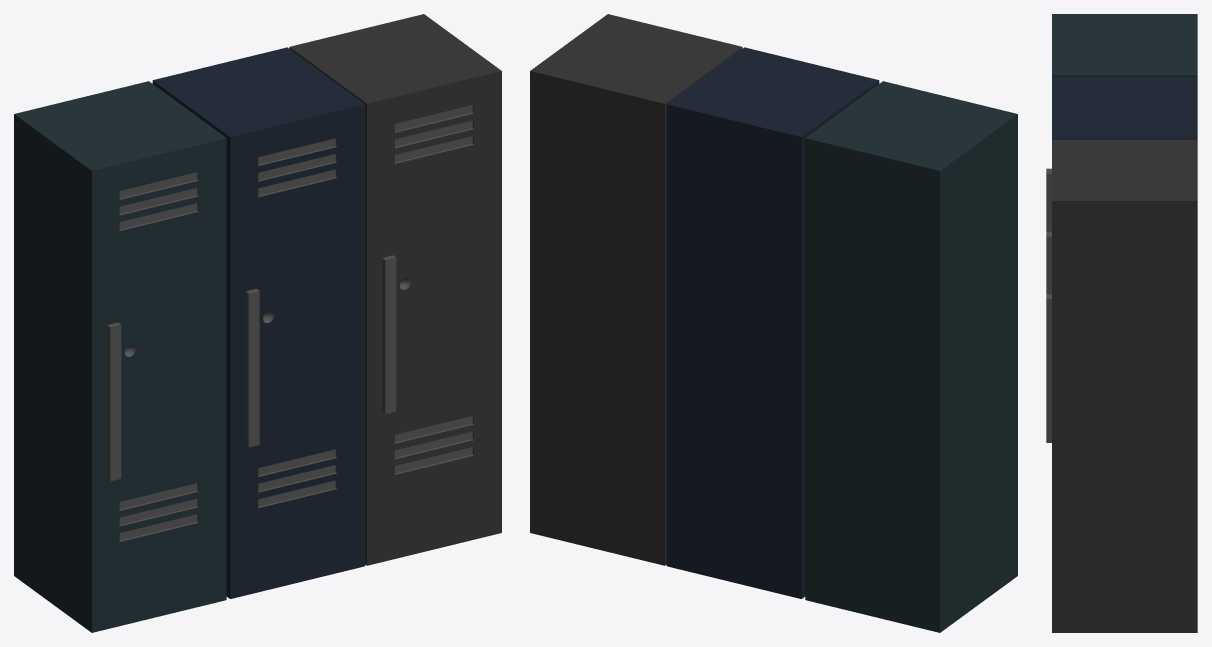
File: casilleros random test.fbx
3 renders of one model, left to right at view 1: azimuth 30°, elevation 25°; view 2: azimuth 150°, elevation 25°; view 3: azimuth 270°, elevation 25°, orthographic. The views are drawn at different scales.
Parts seen in each view (by area): view 1: casillero 2, casillero 1, casillero 1.001; view 2: casillero 2, casillero 1, casillero 1.001; view 3: casillero 1.001, casillero 2, casillero 1.
Part boxes in pixels (x1,y1,x2,y2): casillero 2: (14,81,226,632); casillero 1: (152,47,365,598); casillero 1.001: (289,14,501,565); casillero 2: (805,81,1017,632); casillero 1: (666,47,879,598); casillero 1.001: (530,14,742,565); casillero 1.001: (1046,139,1197,632); casillero 2: (1046,14,1197,231); casillero 1: (1046,77,1197,293).
Size of the model in its own units: 138 by 149 by 47.17.
